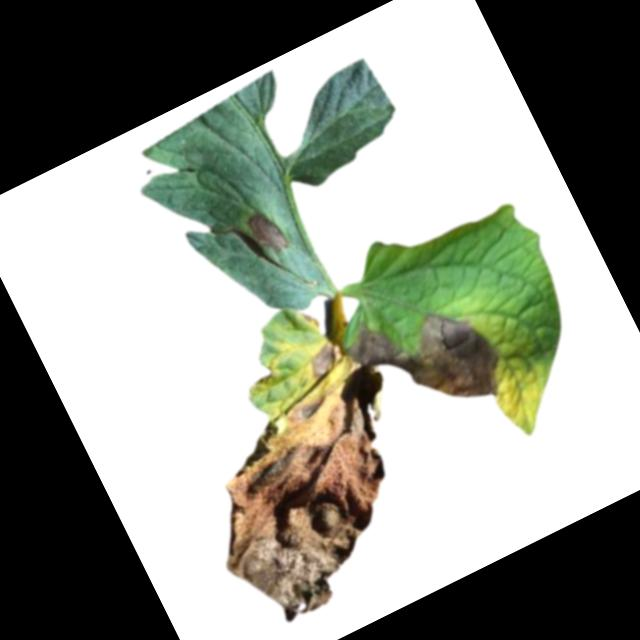Early_blight: (173, 379, 431, 637), (343, 279, 514, 442), (244, 206, 290, 260), (302, 339, 342, 379), (300, 308, 320, 331)
